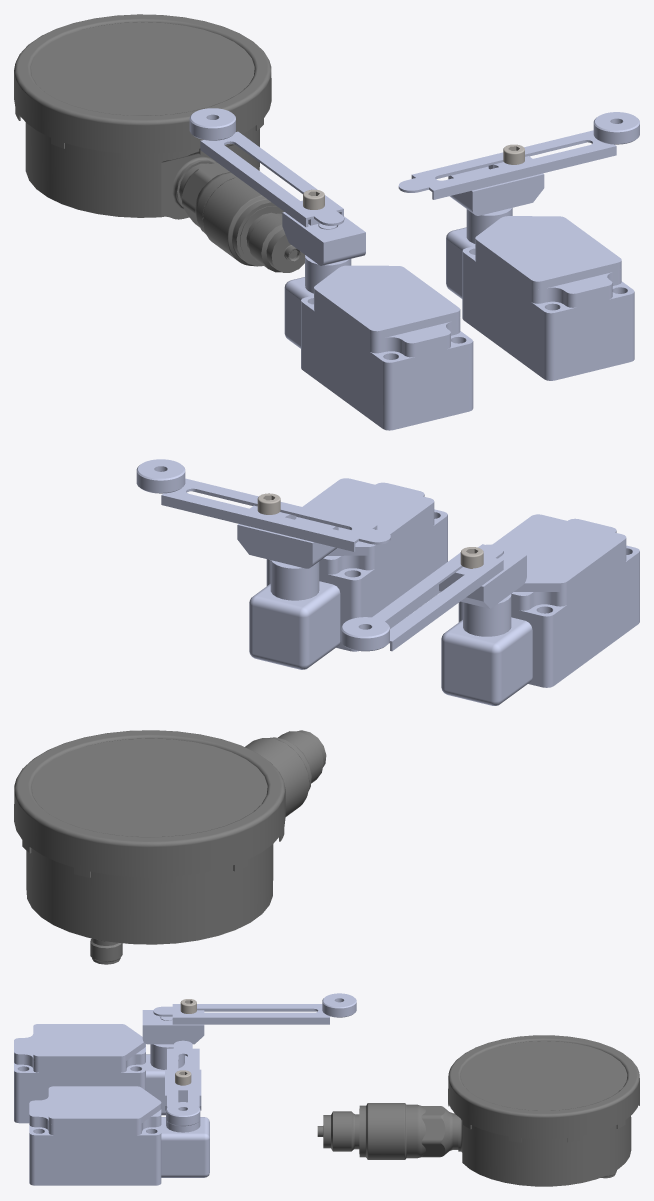
3 renders of one model, top to bottom at view 1: azimuth 30°, elevation 25°; view 2: azimuth 150°, elevation 25°; view 3: azimuth 270°, elevation 25°, orthographic. The views are drawn at different scales.
Visible parts, largest first — view 1: Áîáûøêà-Âûòÿíóòü5 (×2), _PG2450_part1, _PG2409_part2, Âûðåç-Âûòÿíóòü2 (×4), Áîáûøêà-Âûòÿíóòü2 (×2), Ôàñêà1 (×2); view 2: _PG2450_part1, Áîáûøêà-Âûòÿíóòü5 (×2), _PG2409_part2, Âûðåç-Âûòÿíóòü2 (×4), Áîáûøêà-Âûòÿíóòü2 (×2), Ôàñêà1 (×2); view 3: _PG2450_part1, Áîáûøêà-Âûòÿíóòü5 (×2), _PG2409_part2, Áîáûøêà-Âûòÿíóòü2 (×2), Âûðåç-Âûòÿíóòü2 (×4), Ôàñêà1 (×2).
Part boxes in pixels (x1,y1,x2,y2): Áîáûøêà-Âûòÿíóòü5 (×2): (284,208,634,430); _PG2450_part1: (14,14,304,272); _PG2409_part2: (31,22,254,115); Âûðåç-Âûòÿíóòü2 (×4): (200,130,616,265); Áîáûøêà-Âûòÿíóòü2 (×2): (314,216,621,339); Ôàñêà1 (×2): (189,108,639,144); _PG2450_part1: (14,730,326,964); Áîáûøêà-Âûòÿíóòü5 (×2): (249,482,639,705); _PG2409_part2: (32,738,267,836); Âûðåç-Âûòÿíóòü2 (×4): (161,478,526,651); Áîáûøêà-Âûòÿíóòü2 (×2): (302,478,626,591); Ôàñêà1 (×2): (136,459,389,651); _PG2450_part1: (317,1035,639,1186); Áîáûøêà-Âûòÿíóòü5 (×2): (14,1016,209,1185); _PG2409_part2: (460,1041,627,1110); Áîáûøêà-Âûòÿíóòü2 (×2): (33,1024,161,1124); Âûðåç-Âûòÿíóòü2 (×4): (142,1004,330,1122); Ôàñêà1 (×2): (166,993,356,1126).
Bounding box in the file's own units: 6.42 × 3.38 × 12.84.
